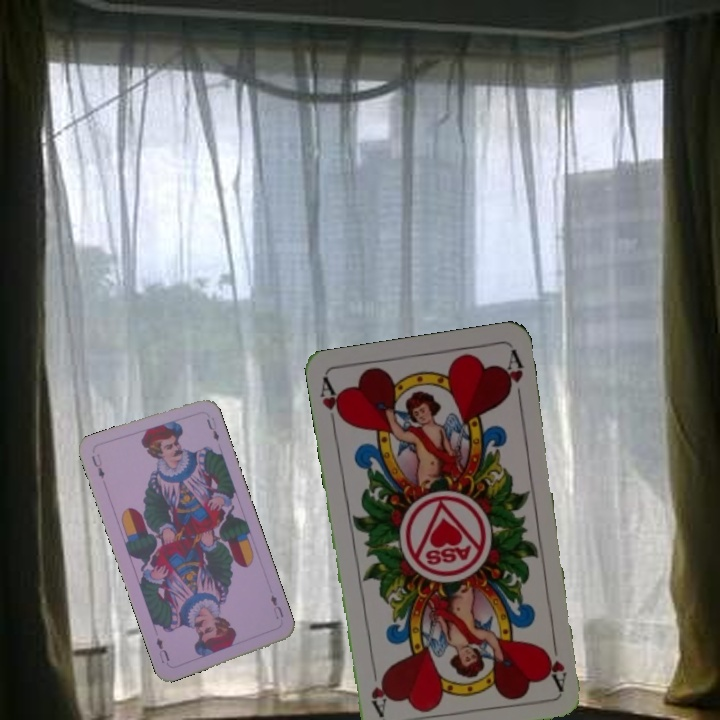EU: (266, 590, 286, 622), (87, 450, 107, 481)
HA: (316, 375, 347, 434), (544, 633, 570, 692)
